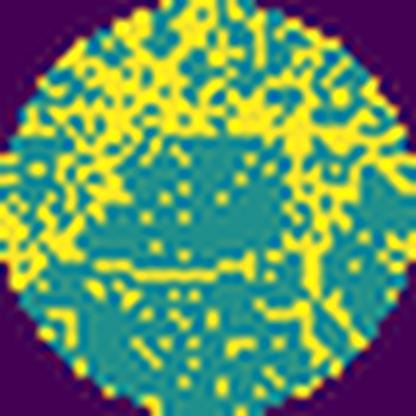Donut: (0, 0, 411, 303)
